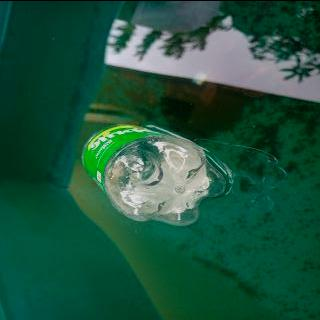bottle: (78, 120, 230, 227)
